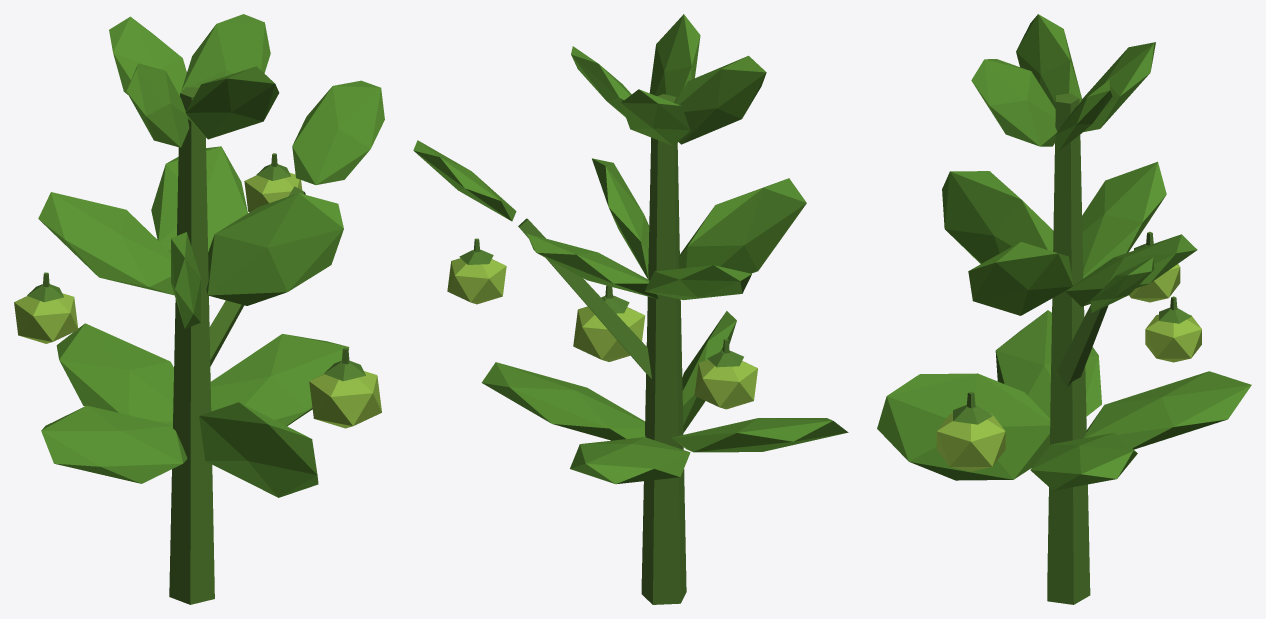
The model's file is TomatoPlant02.fbx.
3 views of the same model, side by side, from view 1: azimuth 30°, elevation 25°; view 2: azimuth 150°, elevation 25°; view 3: azimuth 270°, elevation 25° (orthographic).
Parts seen in each view (by area): view 1: TomatoPlant02; view 2: TomatoPlant02; view 3: TomatoPlant02.
Part boxes in pixels (x1=…): TomatoPlant02: x1=14, y1=14, x2=384, y2=604; TomatoPlant02: x1=413, y1=14, x2=848, y2=604; TomatoPlant02: x1=877, y1=14, x2=1251, y2=604.
Bounding box in the file's own units: 0.3655 × 0.5067 × 0.3146.
